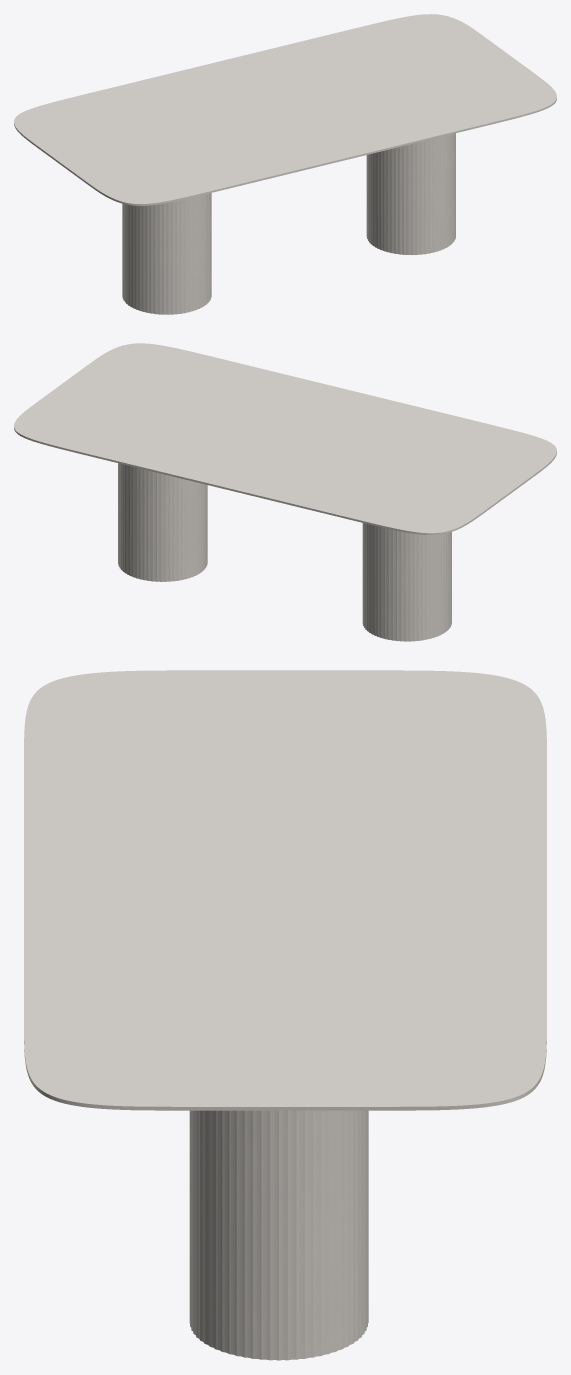
Rendered from pearlwhite_softrecta_facet_ripplesecond.glb.
The picture shows the model from 3 angles, top to bottom: view 1: azimuth 30°, elevation 25°; view 2: azimuth 150°, elevation 25°; view 3: azimuth 270°, elevation 25°; orthographic projection. The views are drawn at different scales.
Visible parts, largest first — view 1: facet_softrecta, ripplesecond; view 2: facet_softrecta, ripplesecond; view 3: facet_softrecta, ripplesecond.
Boxes of the visible parts, <box> form: facet_softrecta: <box>14,14,556,205</box>; ripplesecond: <box>122,133,455,314</box>; facet_softrecta: <box>14,343,556,534</box>; ripplesecond: <box>118,463,451,641</box>; facet_softrecta: <box>24,670,546,1110</box>; ripplesecond: <box>189,1110,368,1360</box>.
Bounding box in the file's own units: 7.5 × 2.5 × 3.8.
Materials: 1 (1 with a texture image).
